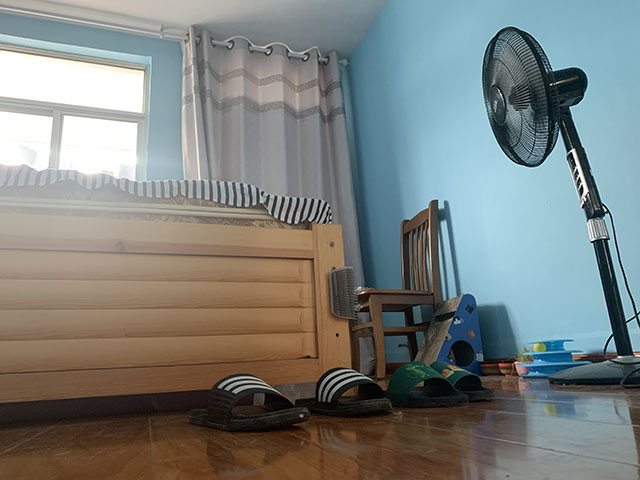bed: (1, 163, 353, 405)
curtain: (179, 24, 377, 377)
slippers: (188, 370, 312, 434), (298, 368, 393, 422), (388, 363, 460, 407), (442, 365, 492, 398)
stool: (349, 199, 444, 380)
wire: (601, 201, 639, 390)
